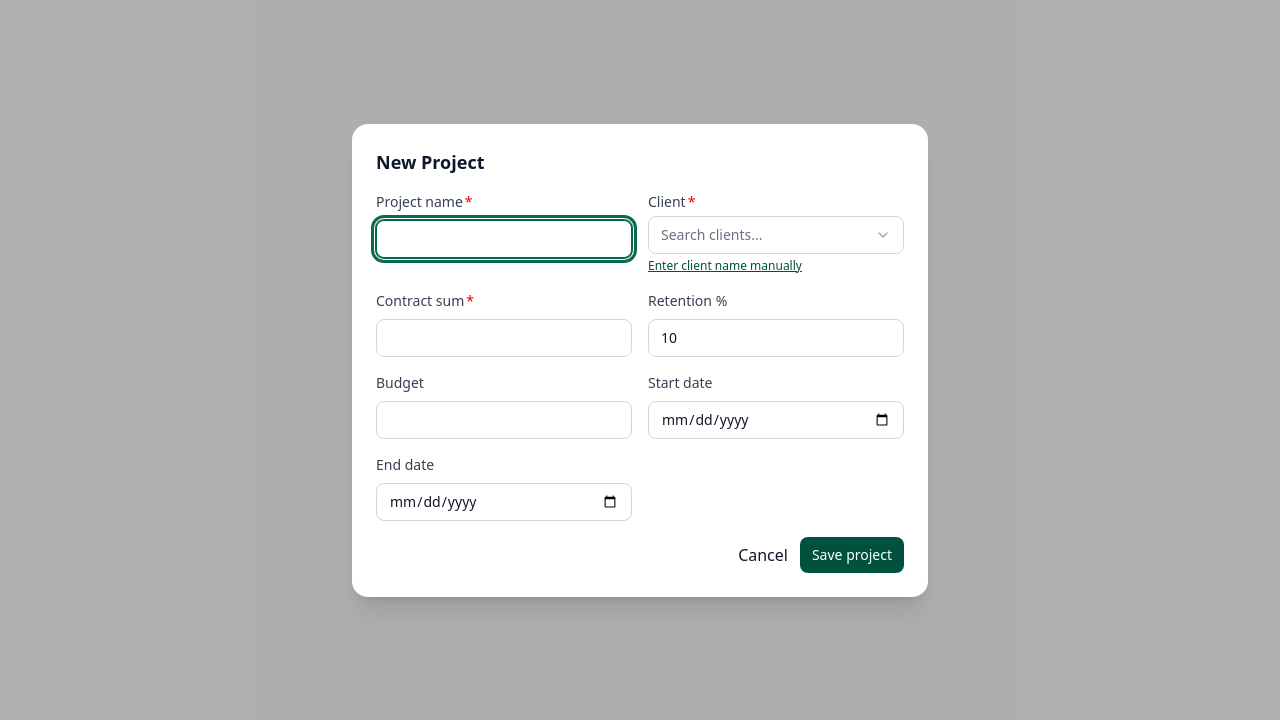
Test: ProjectForm — construction client picker › validation still refuses an empty client (picker mode, nothing selected)
Type "Clinic Block" into the field labelled "Project name" at [504, 238], box [376,220,632,258]
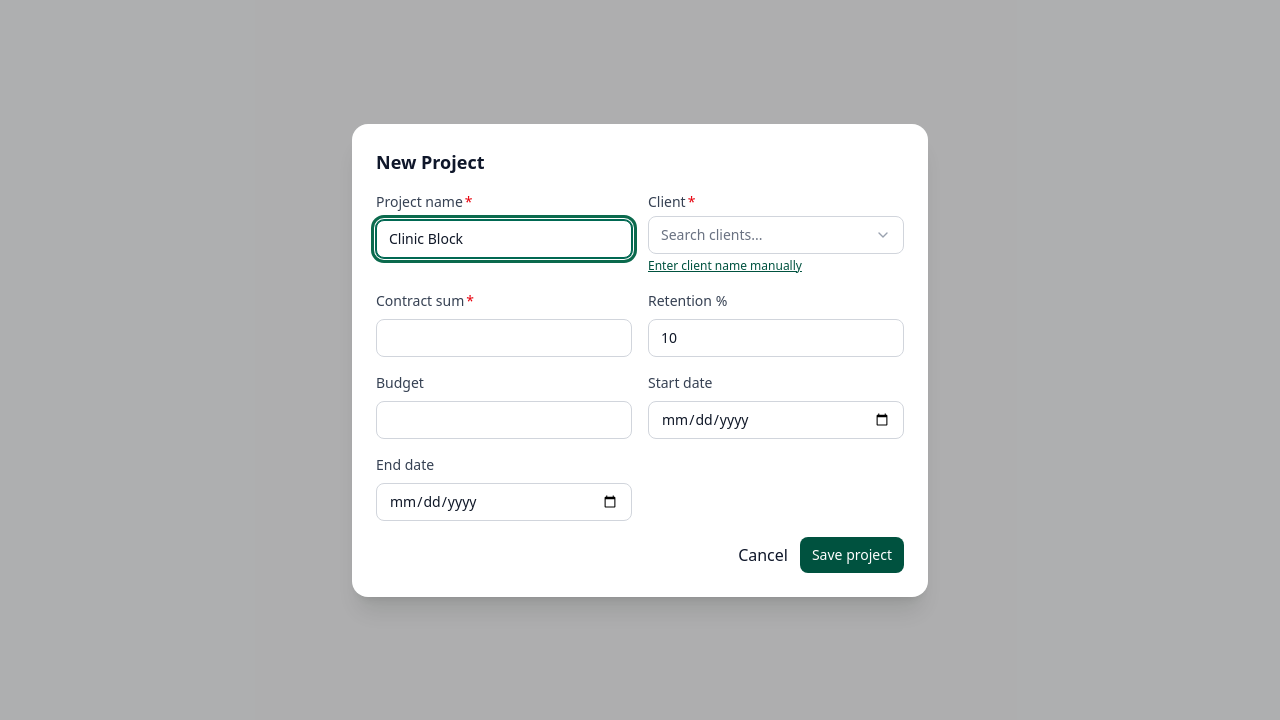
Type "5000" into the number field labelled "Contract sum" at [504, 338], box [376,318,632,356]
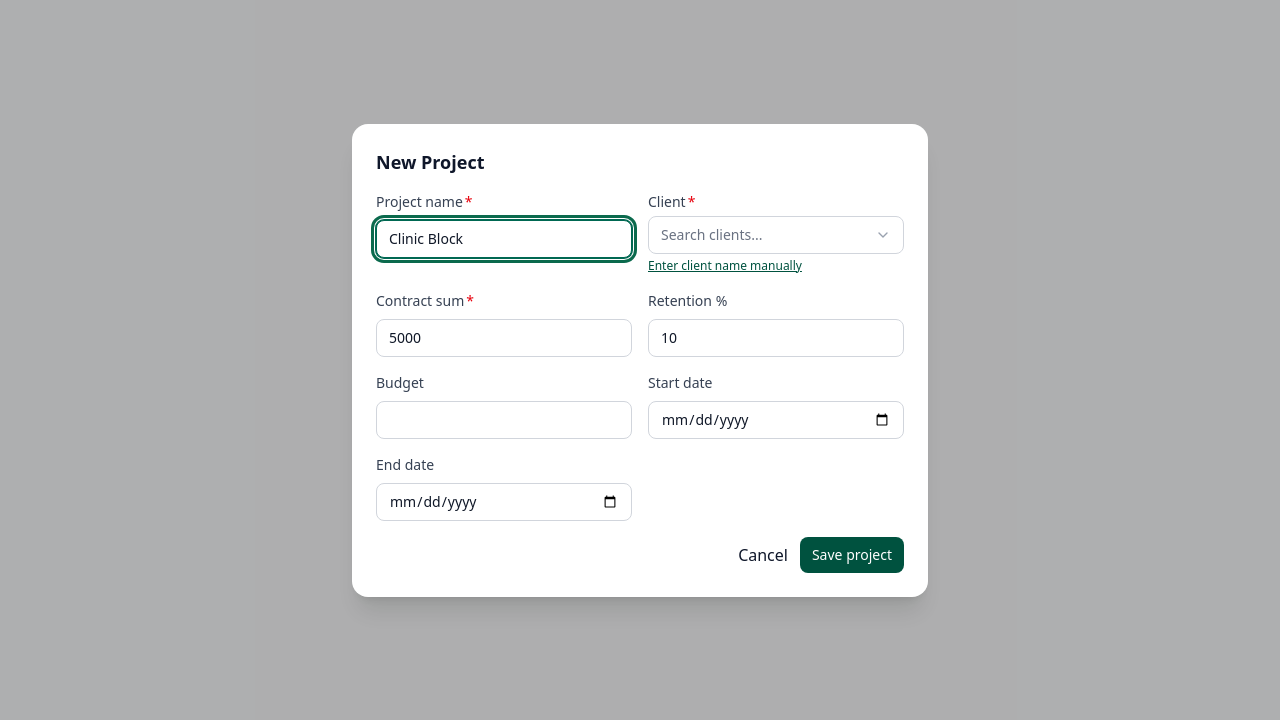
Click the button "Save project" at [852, 554], box [800,536,904,572]
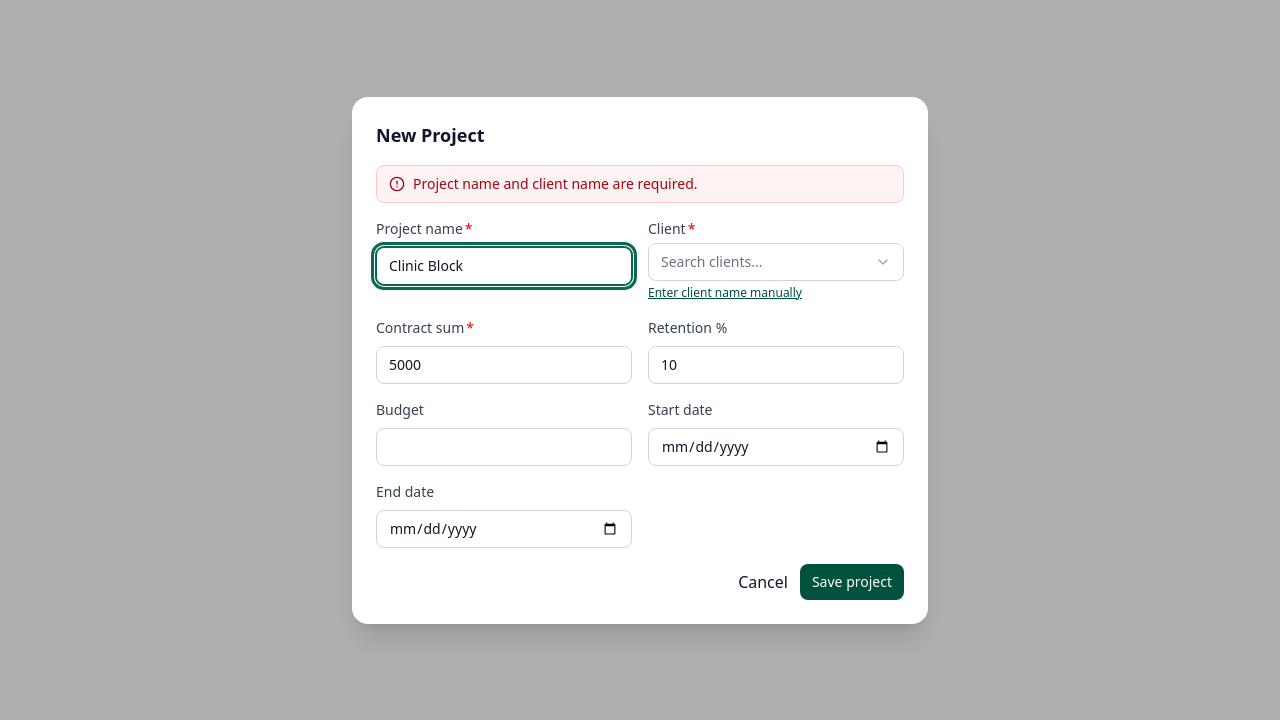
Expected: the text "Project name and client name are required." is shown, [413,174,698,194]
